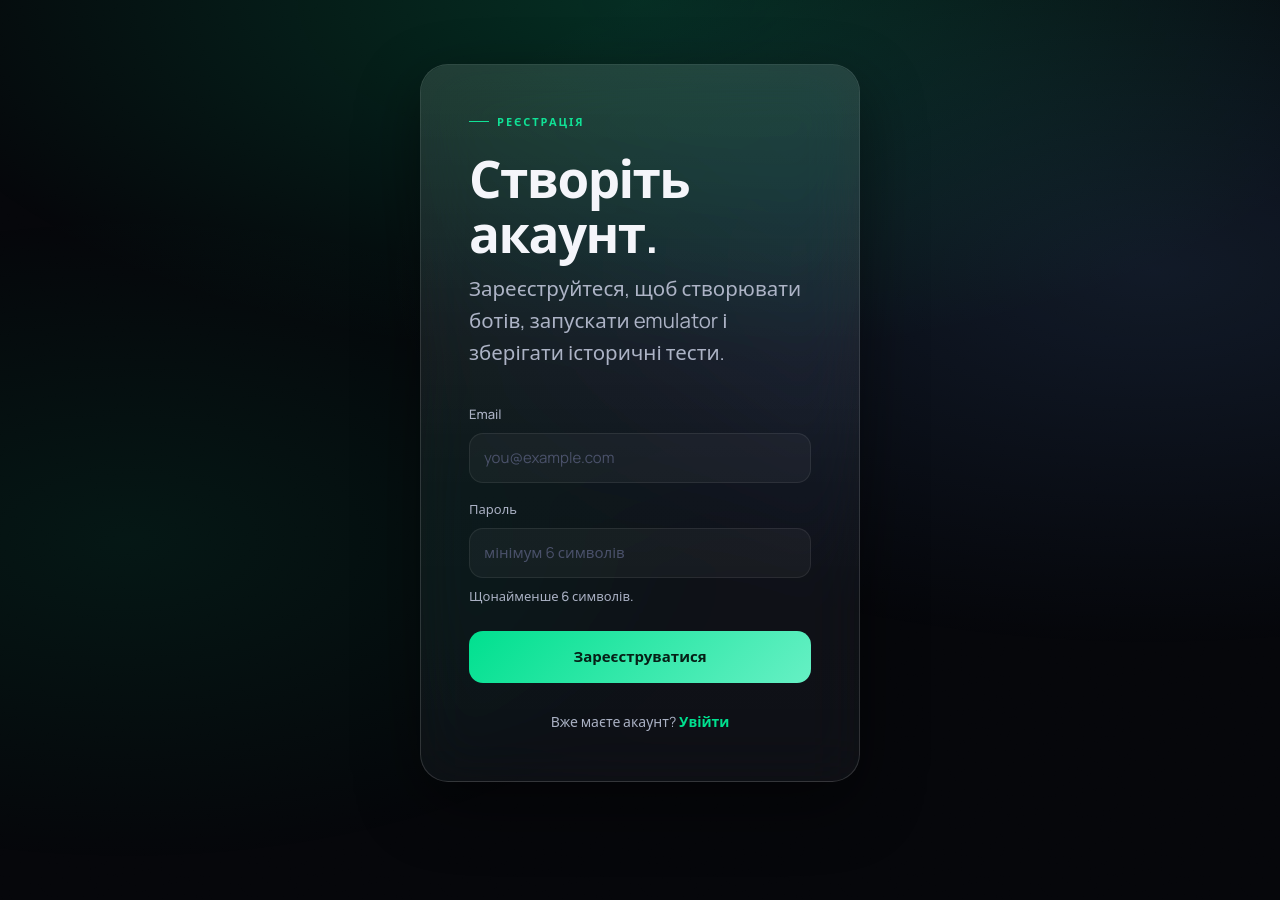
pages/RegisterPage › shows error when password is too short
In the field with placeholder "you@example.com": (640, 458) [469, 433, 811, 483], type "u@test.com"
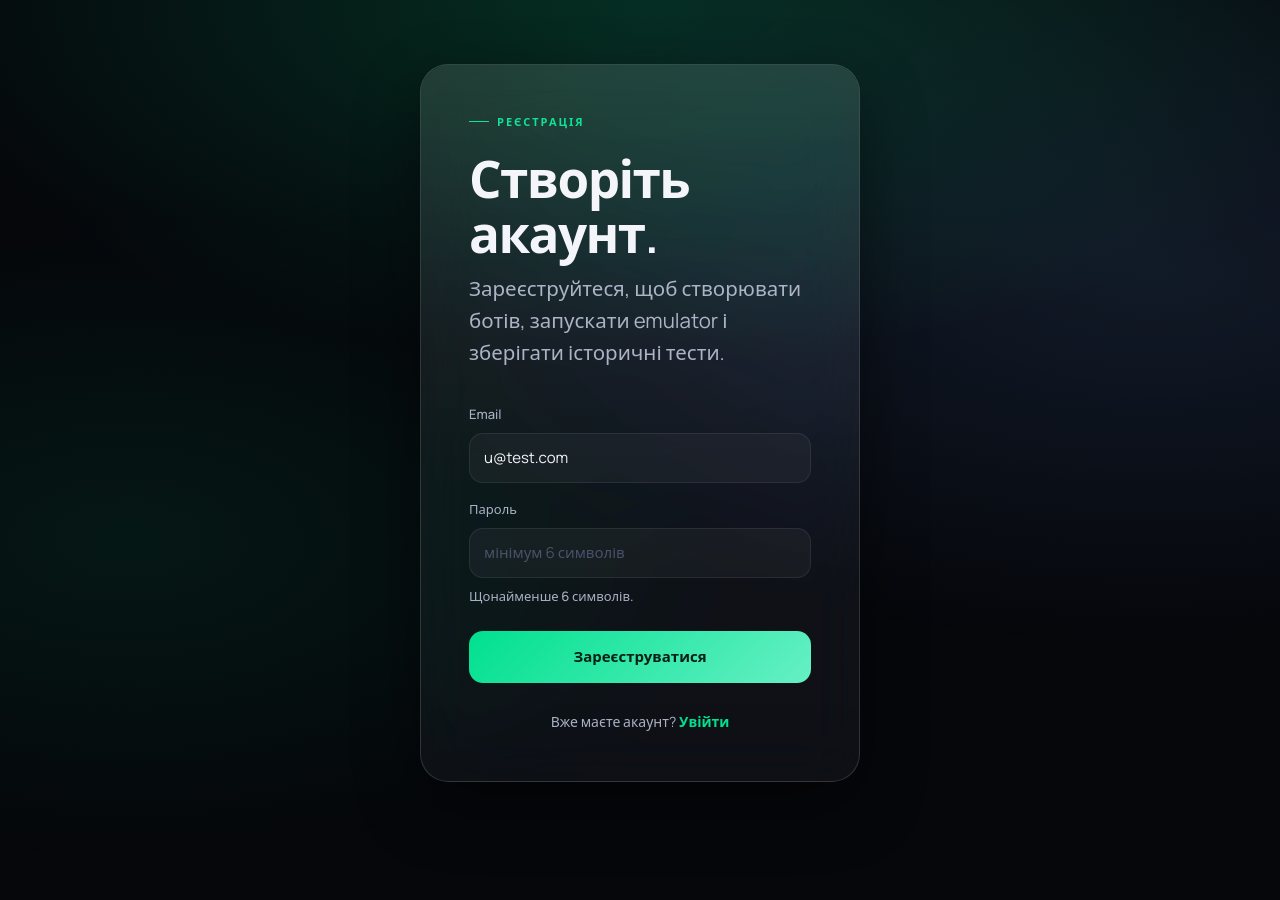
In the password field labelled "Пароль Щонайменше 6 символів.": (640, 553) [469, 528, 811, 578], type "123"
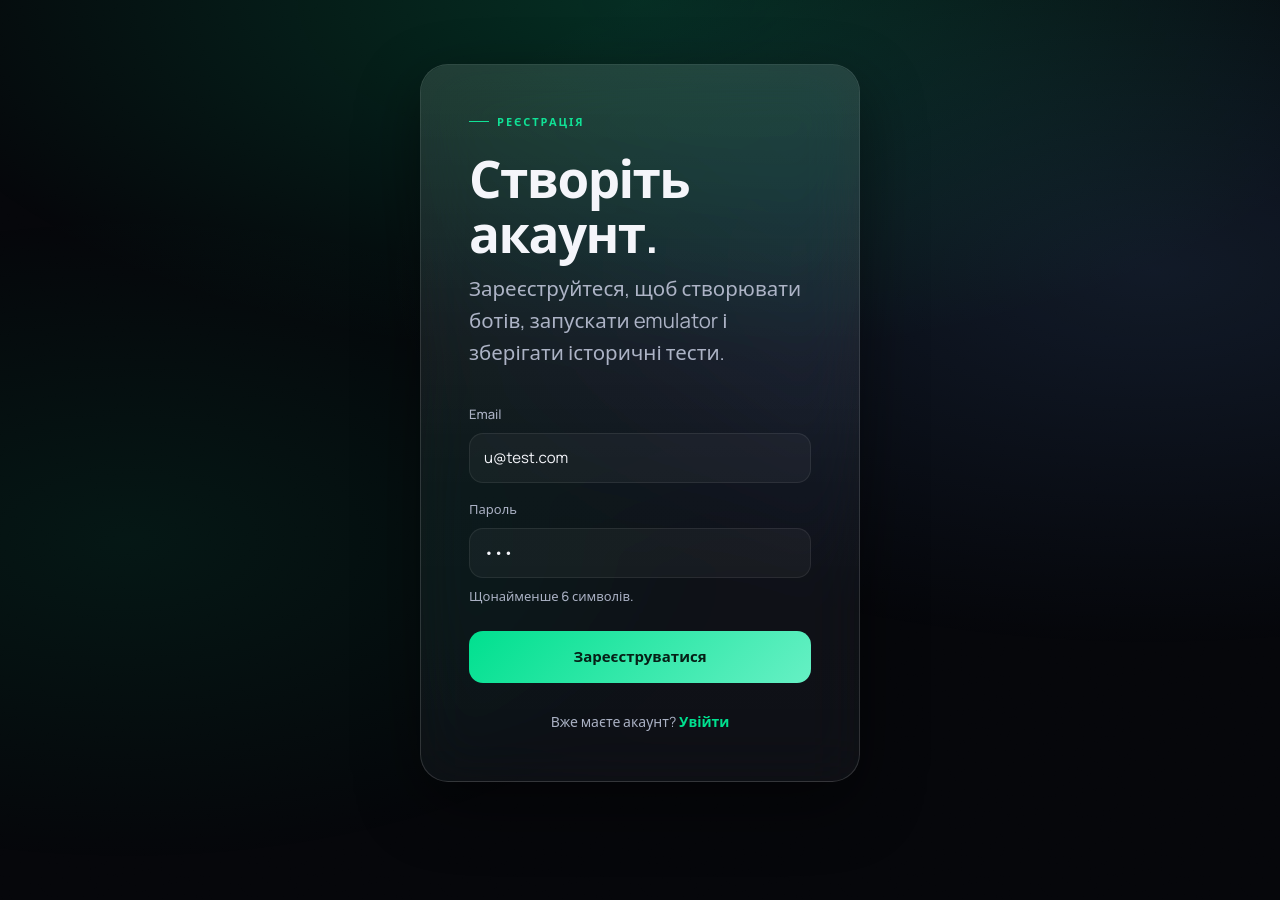
Click the button: (640, 657) [469, 631, 811, 683]
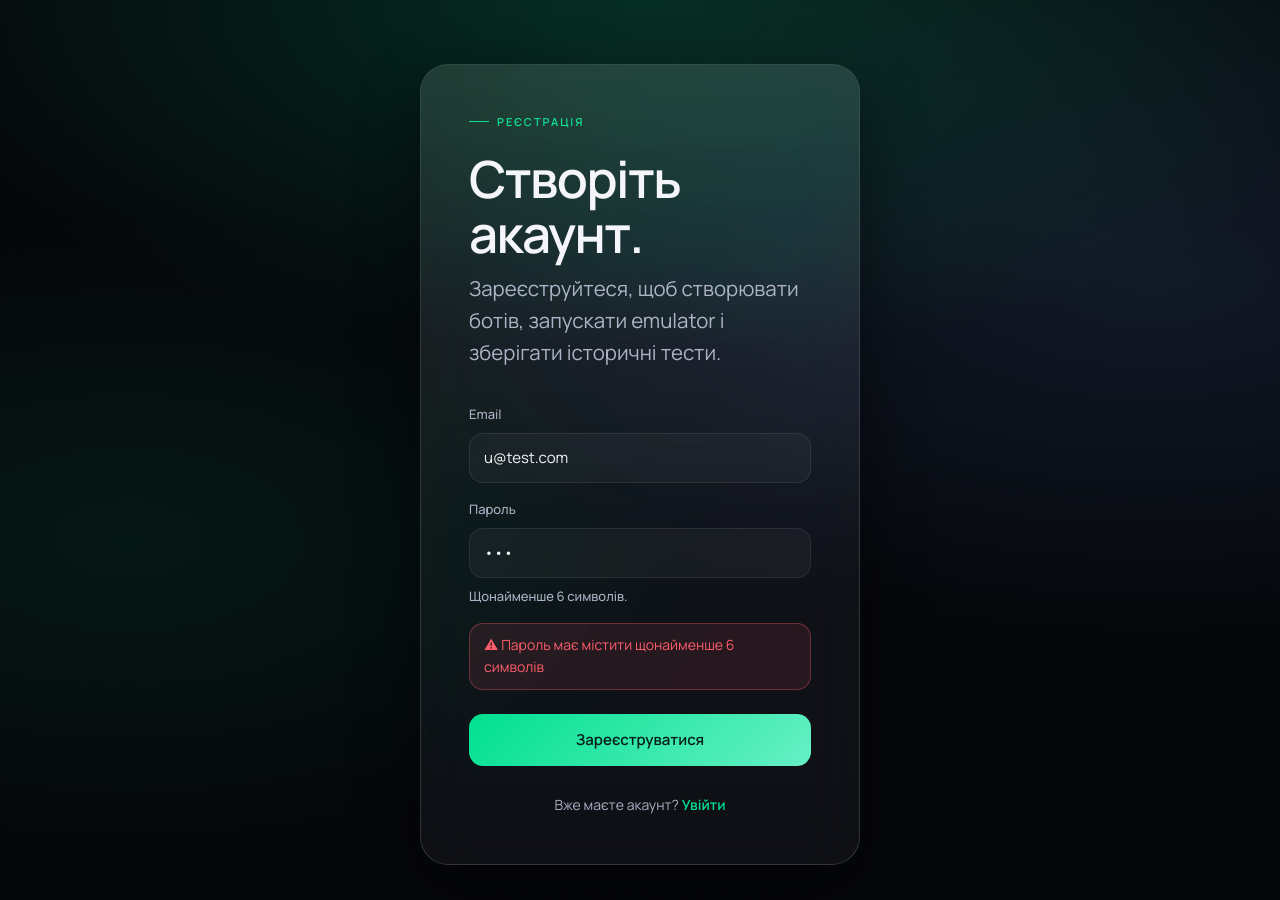
Expected: the message "⚠ Пароль має містити щонайменше 6 символів" is shown, [469, 623, 811, 690]
